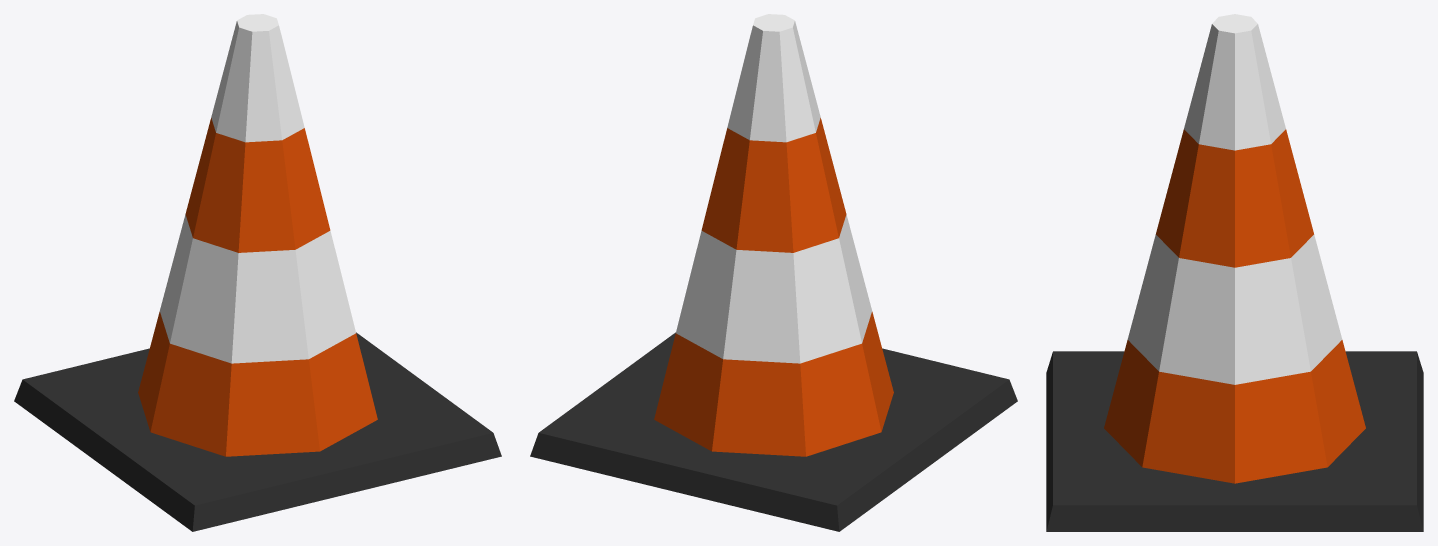
The model's file is hat7.fbx.
3 views of the same model, side by side, from view 1: azimuth 30°, elevation 25°; view 2: azimuth 150°, elevation 25°; view 3: azimuth 270°, elevation 25° (orthographic). The views are drawn at different scales.
Parts seen in each view (by area): view 1: Cube; view 2: Cube; view 3: Cube.
Boxes of the visible parts, <box> form: Cube: <box>14,14,501,531</box>; Cube: <box>530,14,1017,531</box>; Cube: <box>1046,14,1423,531</box>.
Bounding box in the file's own units: 144 × 180 × 144.
